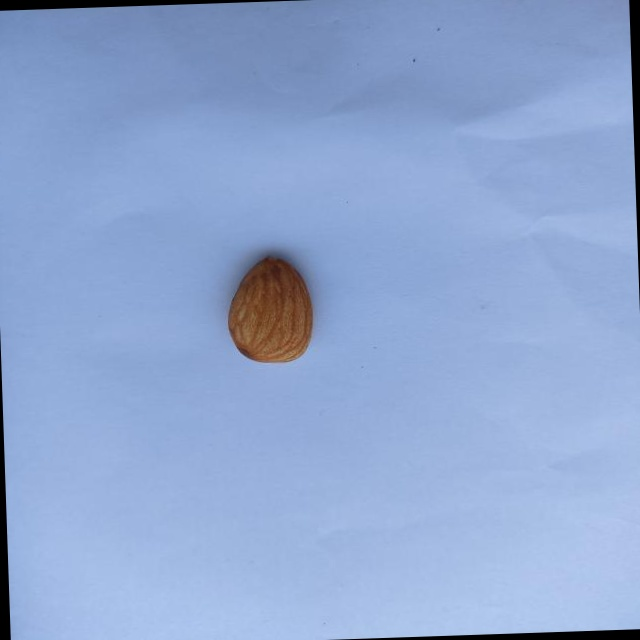grade1: (219, 247, 325, 372)
